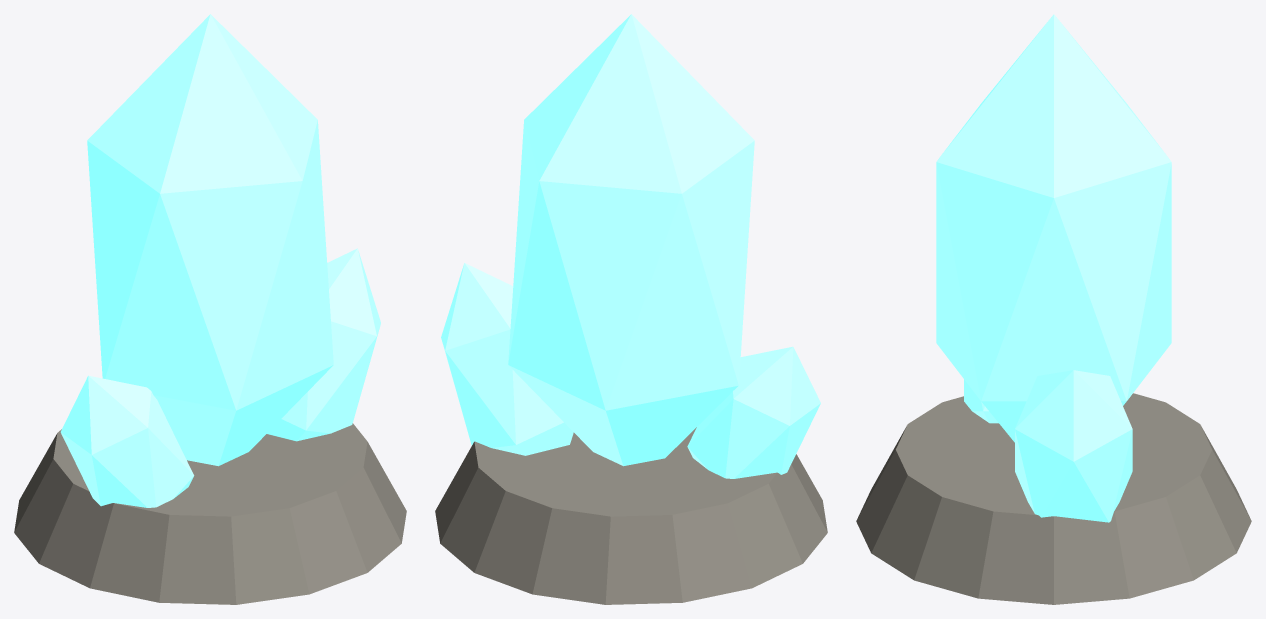
The model's file is crystal-lod0.glb.
3 views of the same model, side by side, from view 1: azimuth 30°, elevation 25°; view 2: azimuth 150°, elevation 25°; view 3: azimuth 270°, elevation 25° (orthographic).
Visible parts, largest first — view 1: crystal; view 2: crystal; view 3: crystal.
Part boxes in pixels (x1,y1,x2,y2): crystal: (14,14,406,604); crystal: (435,14,827,604); crystal: (856,14,1251,604).
Size of the model in its own units: 0.4106 by 0.566 by 0.4.
